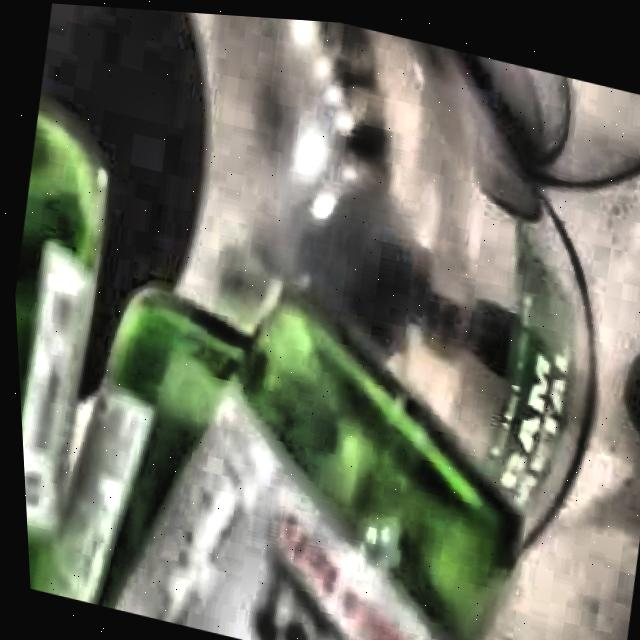glass: (12, 99, 509, 640)
